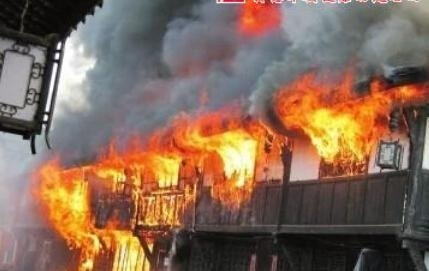fire: (276, 70, 427, 171), (31, 160, 137, 270)
